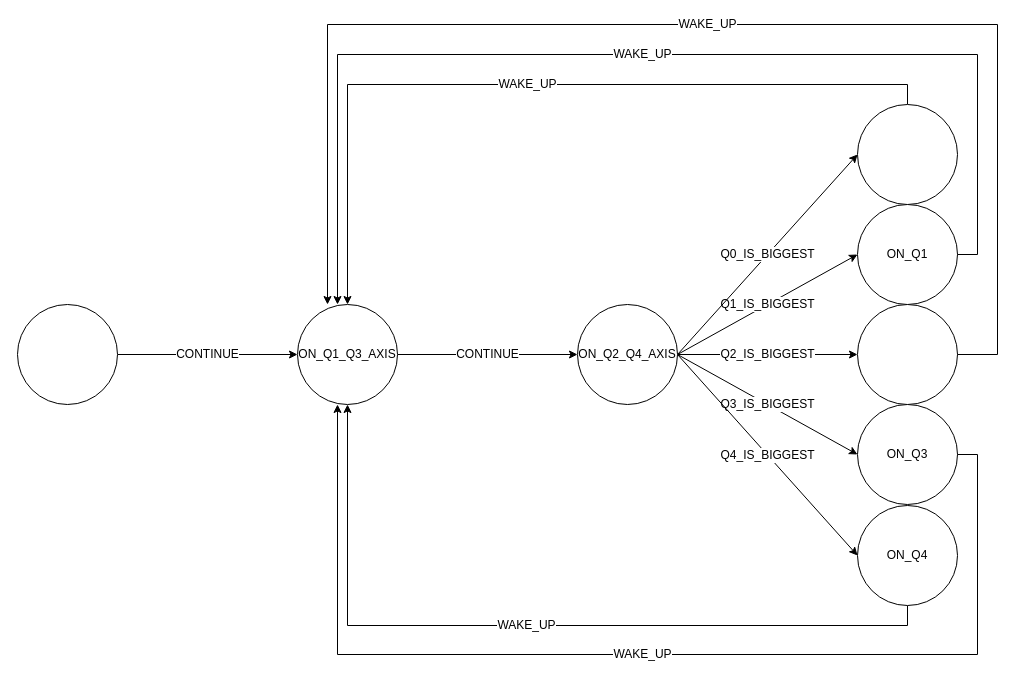
Image size: 1023x680. Some labels were removed from this diagram. Here are the shapes that lost their labels. From the top down, the box of each, then its label:
(856, 104, 958, 204): ON_Q0
(16, 304, 118, 404): SETUP
(856, 304, 958, 404): ON_Q2
